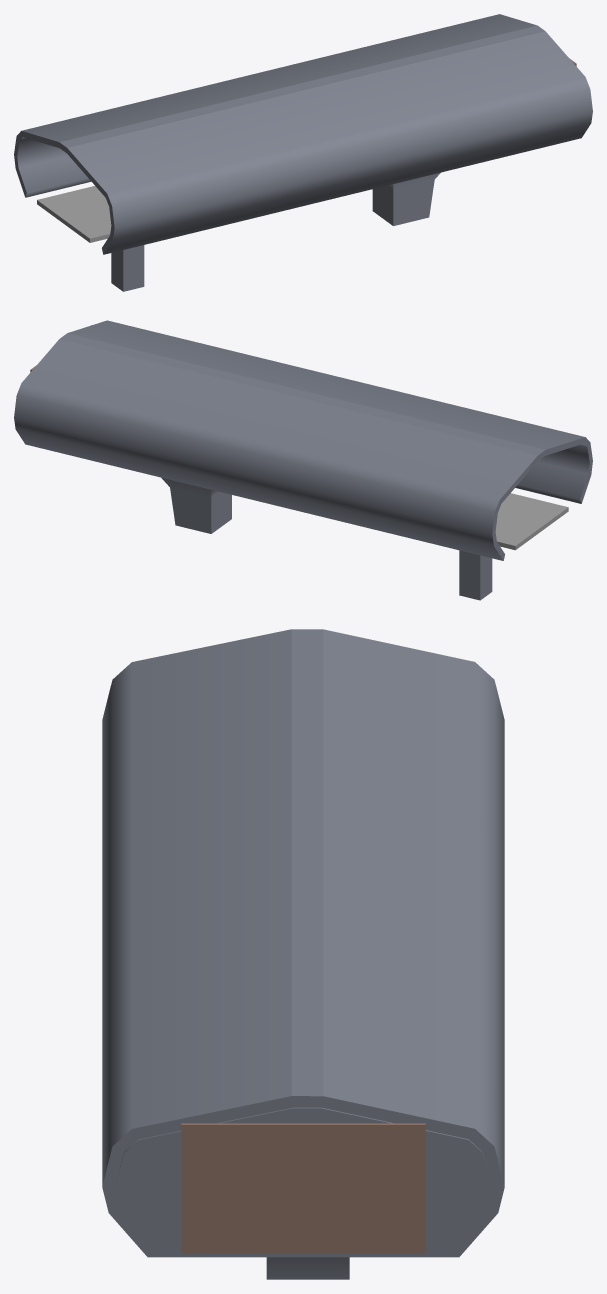
Rendered from BottomSkiLift.fbx.
The picture shows the model from 3 angles, top to bottom: view 1: azimuth 30°, elevation 25°; view 2: azimuth 150°, elevation 25°; view 3: azimuth 270°, elevation 25°; orthographic projection. The views are drawn at different scales.
Parts seen in each view (by area): view 1: BottomSkiLift; view 2: BottomSkiLift; view 3: BottomSkiLift.
Boxes of the visible parts, left/top/right/bottom form: BottomSkiLift: left=14, top=14, right=592, bottom=291; BottomSkiLift: left=14, top=320, right=592, bottom=600; BottomSkiLift: left=102, top=629, right=504, bottom=1279.
Bounding box in the file's own units: 445 × 1230 × 381.
